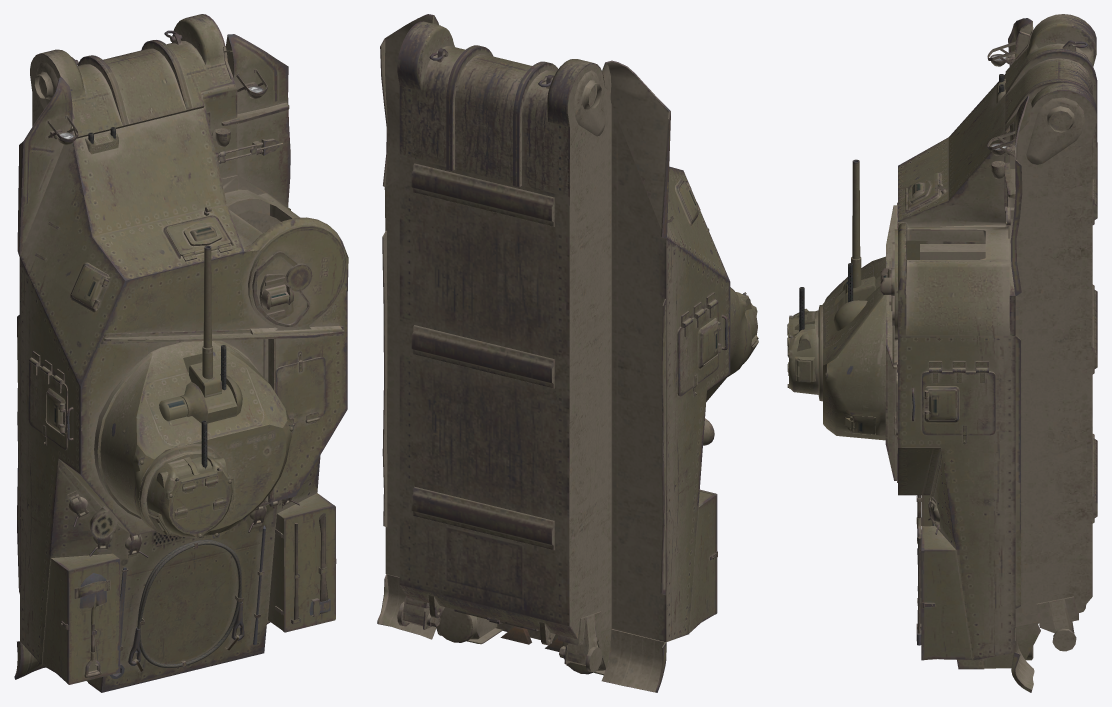
File: Hull.glb
The picture shows the model from 3 angles, left to right: view 1: azimuth 30°, elevation 25°; view 2: azimuth 150°, elevation 25°; view 3: azimuth 270°, elevation 25°; orthographic projection. The views are drawn at different scales.
Visible parts, largest first — view 1: set_0_group_0; view 2: set_0_group_0; view 3: set_0_group_0.
Boxes of the visible parts, box(x1,y1,x2,y2) form: set_0_group_0: box(14, 14, 348, 692); set_0_group_0: box(377, 14, 758, 692); set_0_group_0: box(787, 14, 1097, 692).
Size of the model in its own units: 2.71 by 5.55 by 2.69.
Materials: 1 (1 with a texture image).
